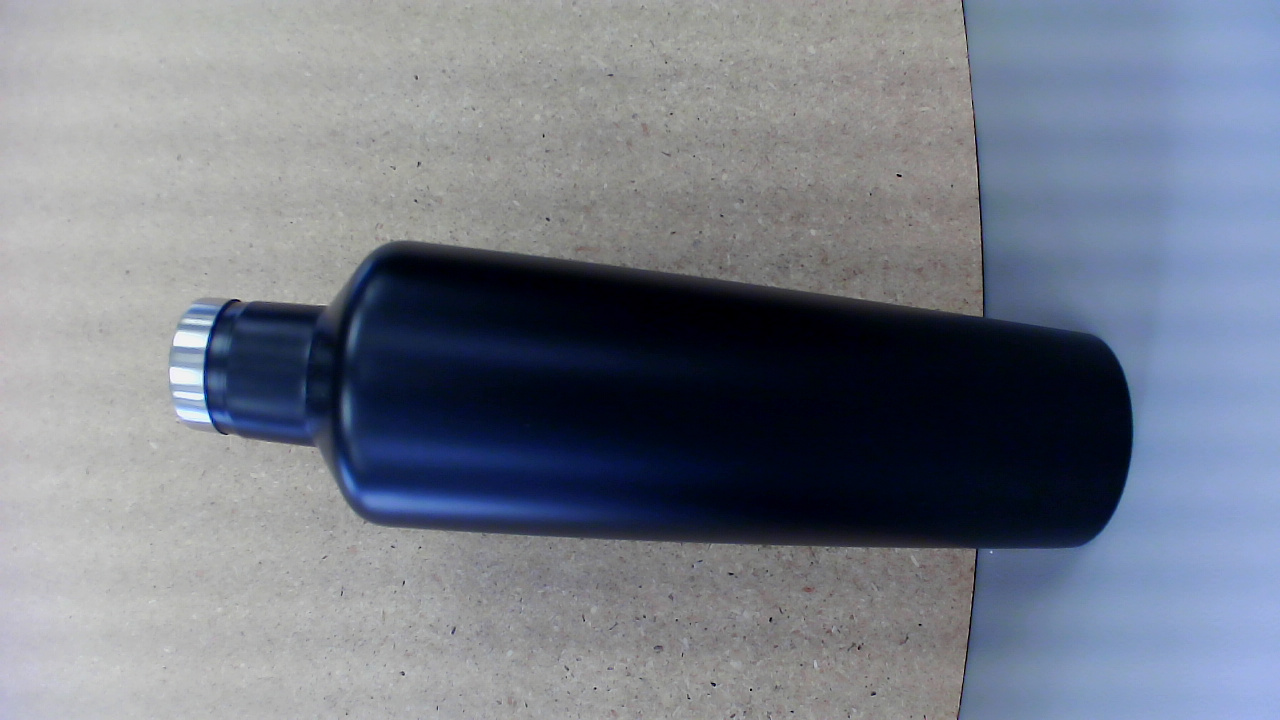neobottle: (154, 235, 1138, 577)
